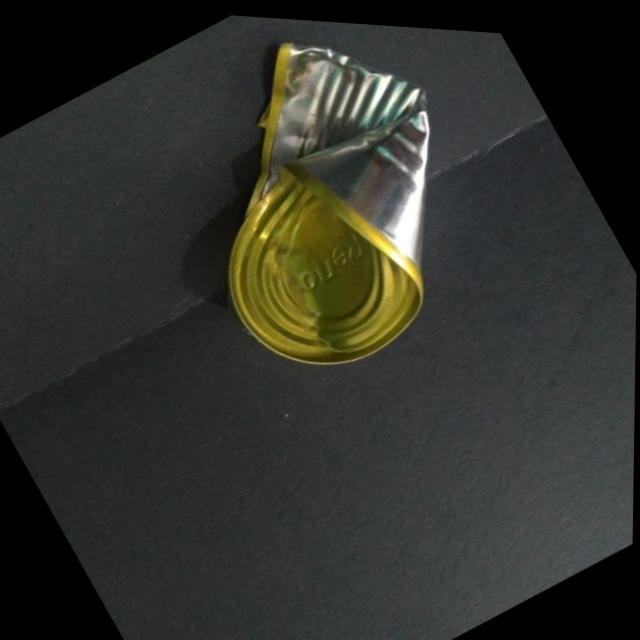metal: (103, 18, 541, 349)
